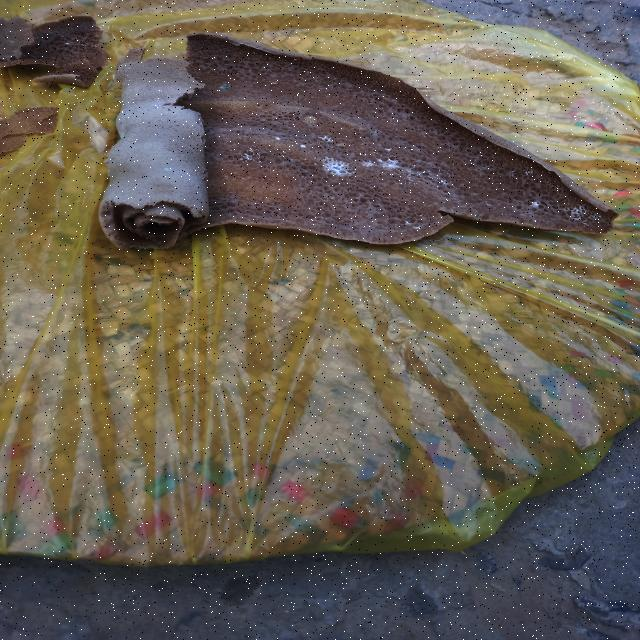injera_mold: (374, 148, 404, 180), (563, 202, 601, 224), (323, 154, 348, 178), (236, 147, 262, 164), (408, 160, 424, 184), (405, 219, 423, 232), (316, 132, 333, 145), (122, 66, 131, 90), (435, 176, 450, 187), (530, 198, 540, 211), (363, 158, 372, 172), (523, 168, 536, 176), (217, 82, 229, 90), (163, 166, 173, 174), (368, 129, 378, 137), (509, 169, 516, 179), (398, 181, 408, 187), (427, 175, 433, 182), (274, 135, 279, 142), (437, 168, 442, 174), (300, 143, 304, 150), (313, 162, 320, 166), (446, 171, 451, 176), (279, 154, 285, 158), (499, 213, 507, 216), (533, 219, 538, 223), (117, 69, 120, 73), (160, 90, 163, 92), (132, 98, 134, 101), (143, 70, 145, 72)
